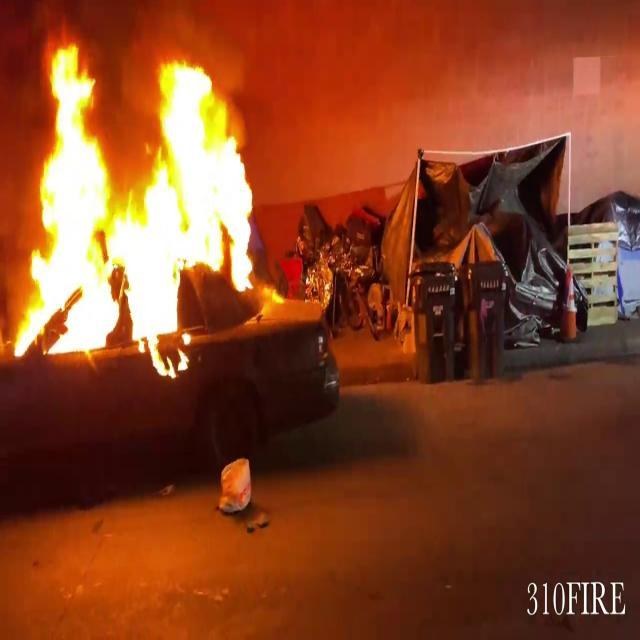Fire: (3, 36, 275, 367)
